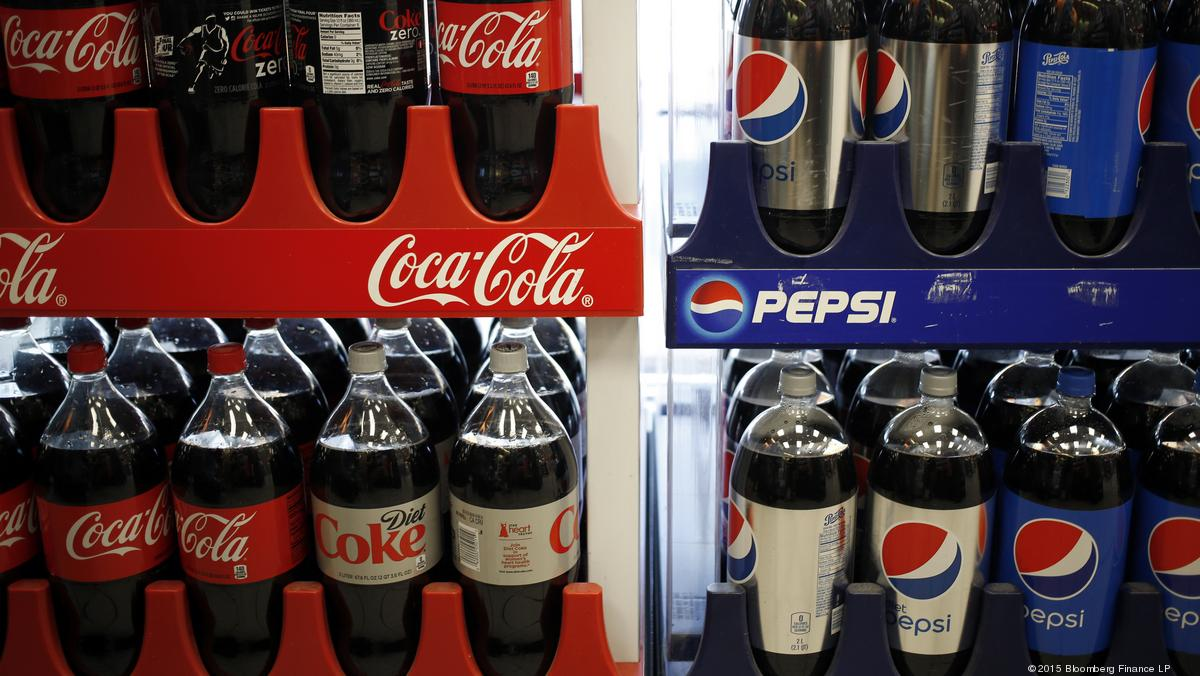coke: (50, 357, 160, 642), (461, 357, 577, 626), (189, 353, 295, 632), (328, 357, 435, 631), (1, 24, 149, 185), (293, 1, 430, 174), (148, 1, 270, 188), (440, 1, 564, 178), (1, 418, 36, 574)
